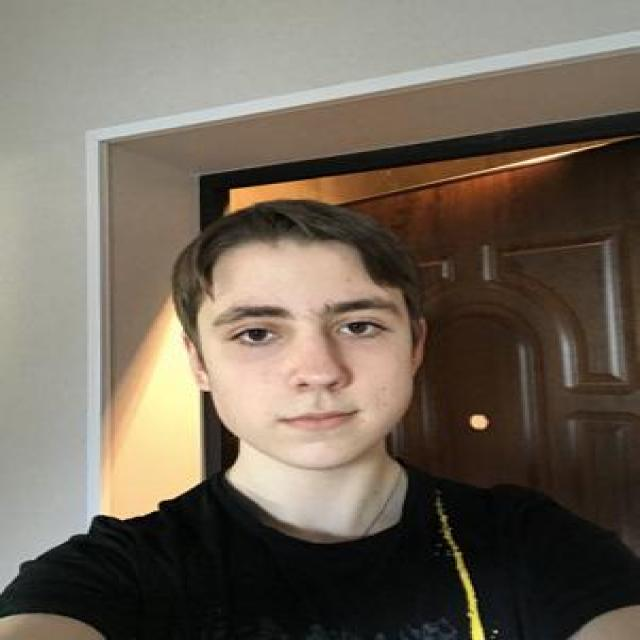without_mask: (197, 293, 412, 472)
